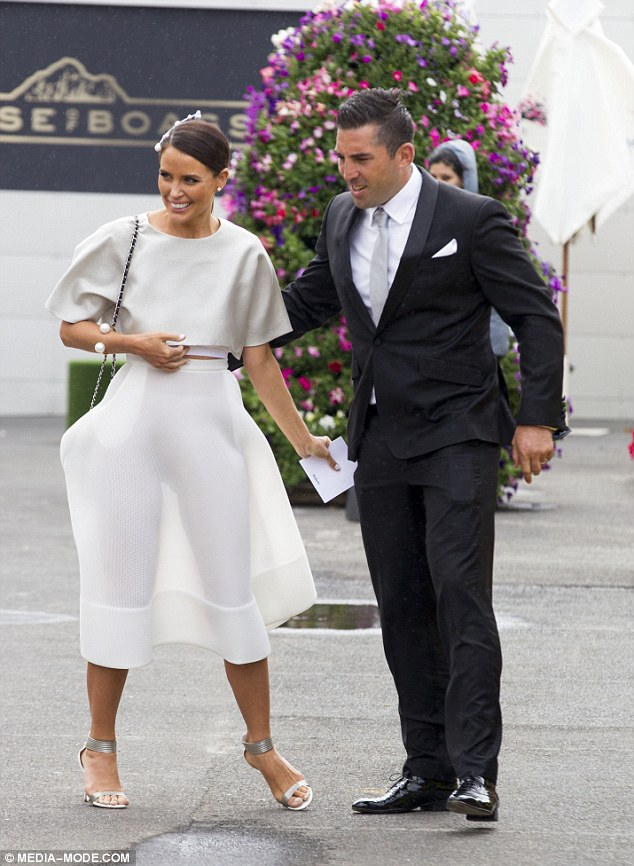Person: (45, 109, 340, 808), (314, 89, 563, 821)
